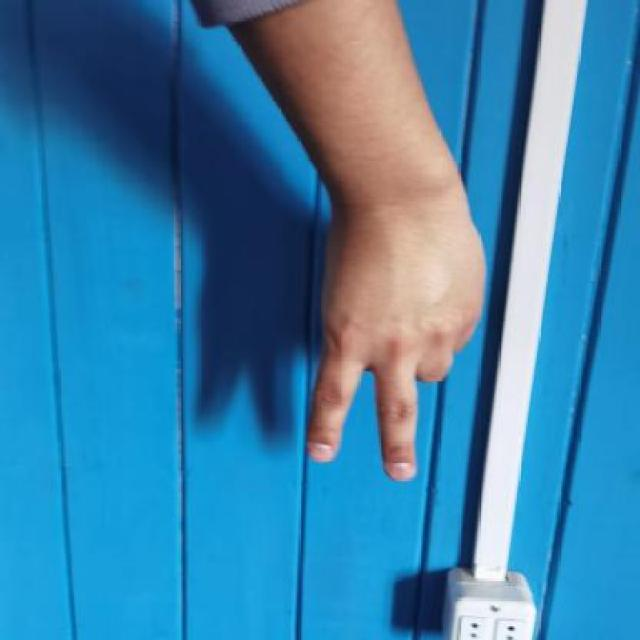N: (258, 172, 531, 486)
